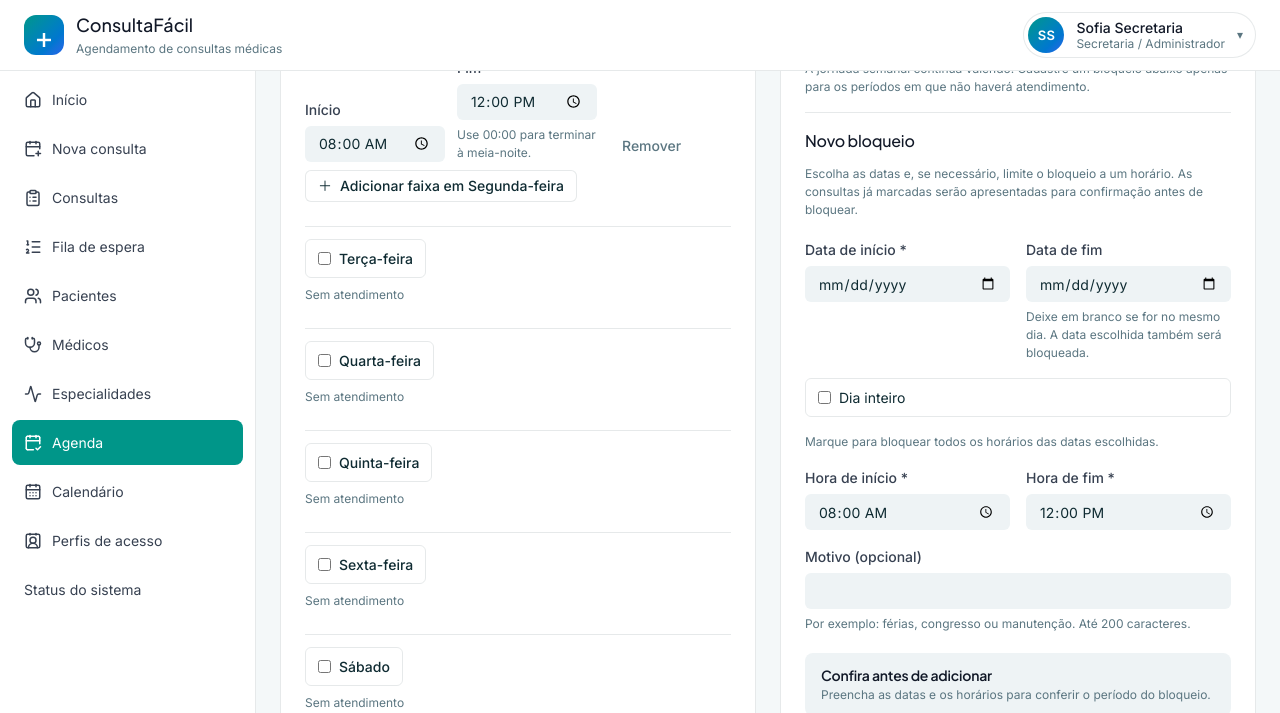
Test case: tela de agenda › recarrega a lista de médicos sem perder a seleção nem a jornada em edição
The width and height of the screenshot is (1280, 713).
(page scrolled)
Click the checkbox labelled "Quarta-feira".
click(324, 360)  # box x1=318 y1=354 x2=331 y2=366
(page scrolled)
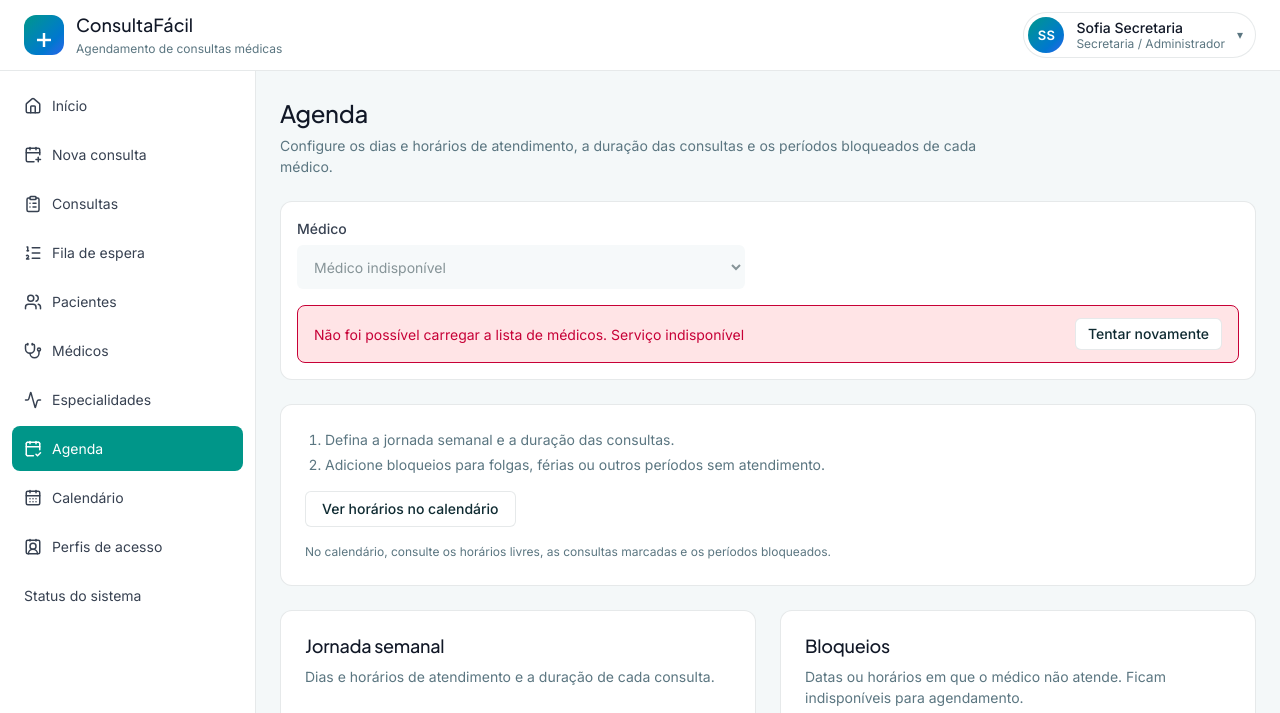
Click the button "Tentar novamente".
click(1148, 334)  # box x1=1075 y1=318 x2=1222 y2=350
(page scrolled)
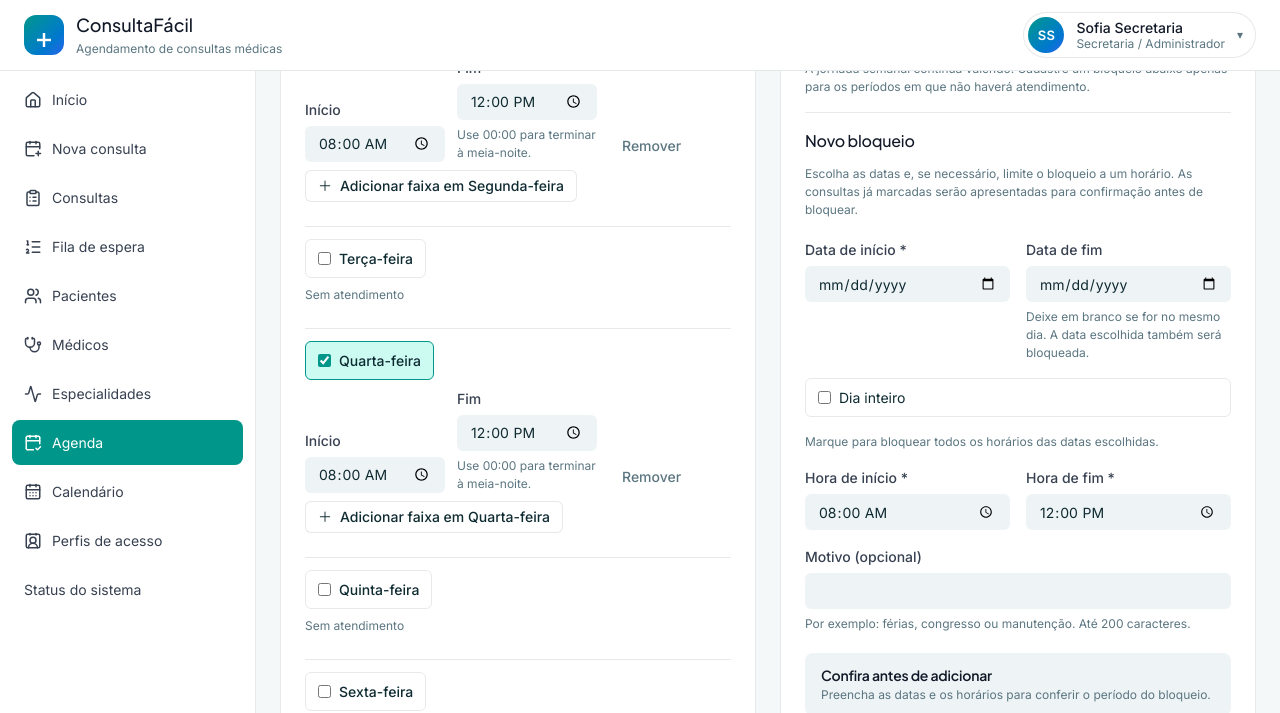
Check: the checkbox labelled "Quarta-feira" is checked, box x1=318 y1=354 x2=331 y2=366
